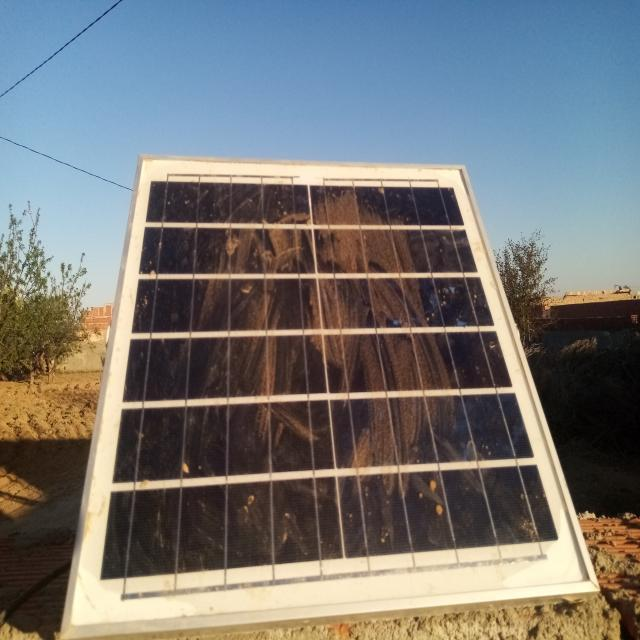Anomaly Solar Panel: (86, 173, 573, 598)
Surface Contaminant: (124, 179, 551, 577)
